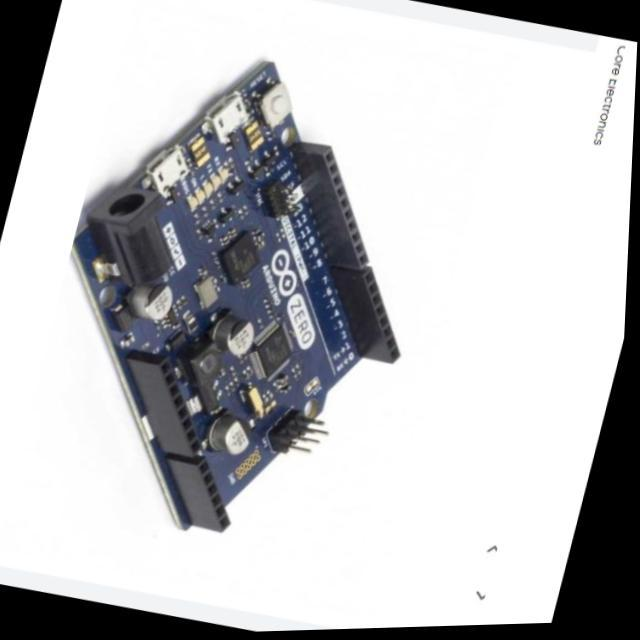Arduino-Zero: (74, 62, 400, 532)
